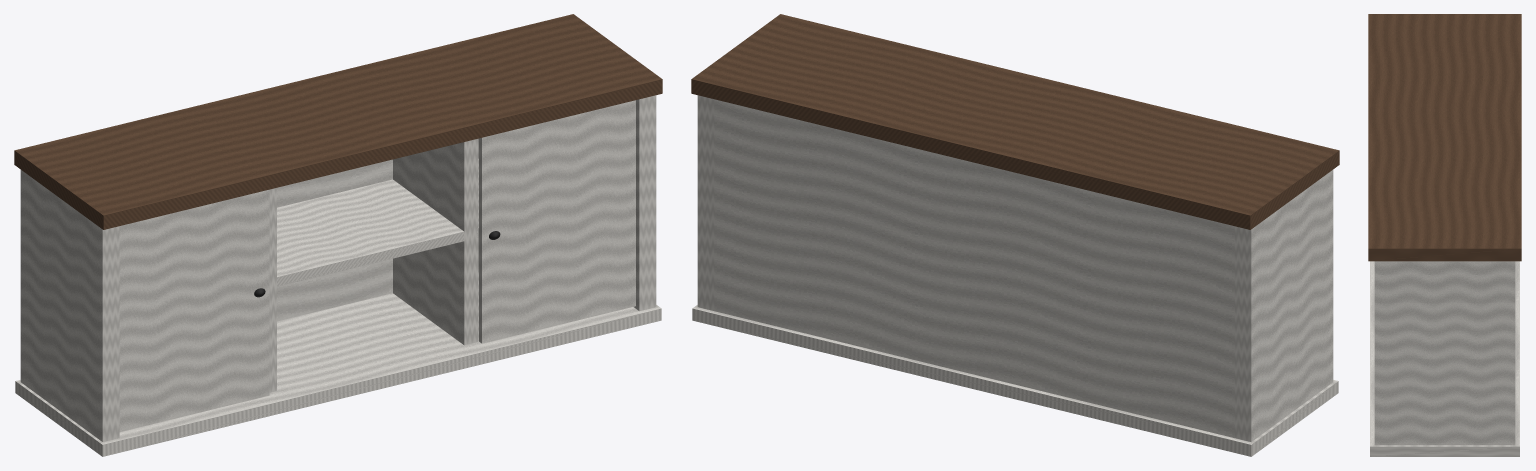
The picture shows the model from 3 angles, left to right: view 1: azimuth 30°, elevation 25°; view 2: azimuth 150°, elevation 25°; view 3: azimuth 270°, elevation 25°; orthographic projection. The views are drawn at different scales.
Parts seen in each view (by area): view 1: 1 top_panel, 12 right_barn_door, 11 left_barn_door, 2 bottom_base, 3 left_side_panel, 8 center_shelf, 7 right_divider, 5 back_panel, 4 right_side_panel, 6 left_divider; view 2: 5 back_panel, 1 top_panel, 3 left_side_panel, 2 bottom_base, 4 right_side_panel; view 3: 1 top_panel, 4 right_side_panel, 2 bottom_base.
Part boxes in pixels (bbox=[...]): 1 top_panel: bbox=[14, 14, 662, 229]; 12 right_barn_door: bbox=[478, 100, 635, 343]; 11 left_barn_door: bbox=[119, 189, 269, 431]; 2 bottom_base: bbox=[15, 272, 661, 456]; 3 left_side_panel: bbox=[20, 170, 119, 441]; 8 center_shelf: bbox=[277, 179, 464, 286]; 7 right_divider: bbox=[393, 139, 477, 345]; 5 back_panel: bbox=[277, 138, 478, 321]; 4 right_side_panel: bbox=[634, 95, 656, 311]; 6 left_divider: bbox=[269, 188, 276, 392]; 5 back_panel: bbox=[714, 99, 1234, 437]; 1 top_panel: bbox=[691, 14, 1339, 229]; 3 left_side_panel: bbox=[1234, 170, 1333, 441]; 2 bottom_base: bbox=[692, 305, 1338, 456]; 4 right_side_panel: bbox=[697, 95, 714, 311]; 1 top_panel: bbox=[1368, 14, 1521, 261]; 4 right_side_panel: bbox=[1374, 261, 1515, 445]; 2 bottom_base: bbox=[1370, 261, 1519, 456].
Bounding box in the file's own units: 1.47 × 0.6096 × 0.4064.
3 materials, 2 textured.
